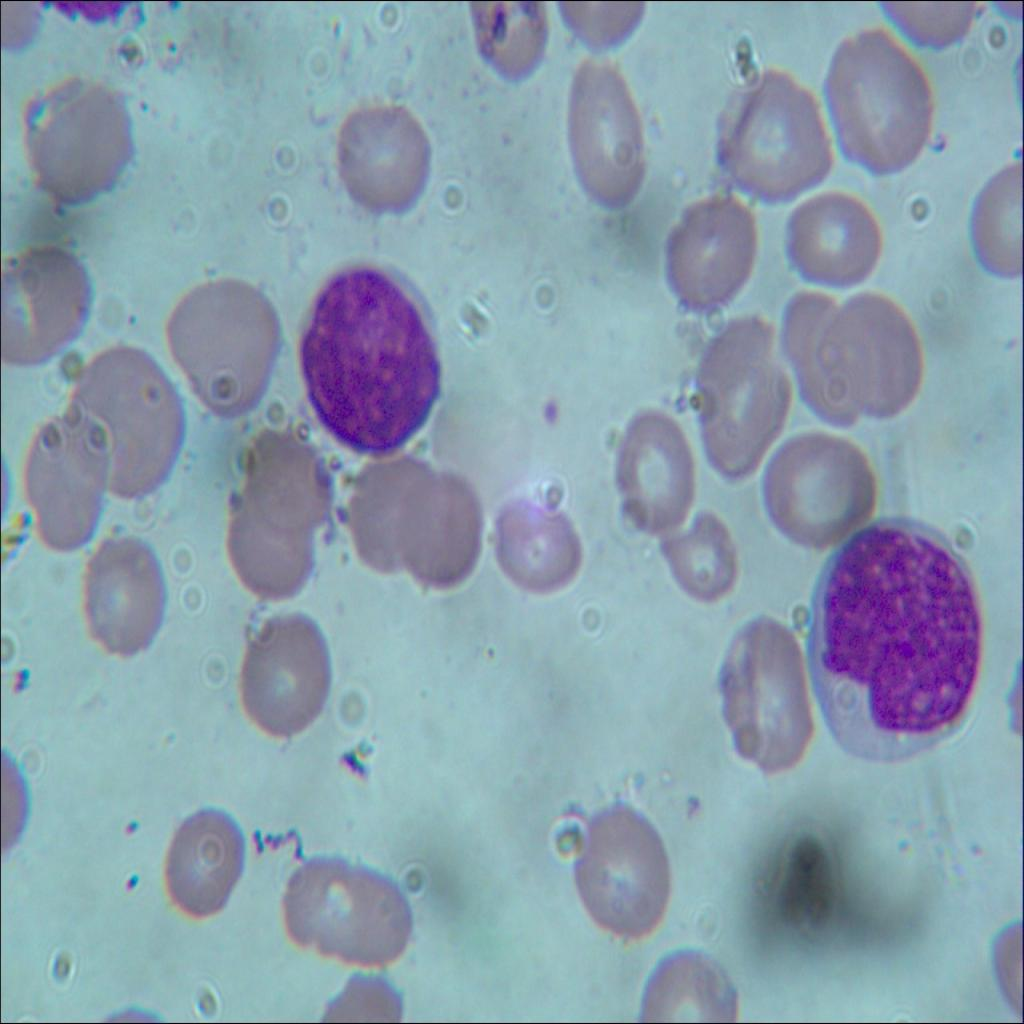Eritrosit: (68, 349, 186, 504), (684, 307, 786, 481), (826, 34, 950, 177), (18, 75, 135, 214), (164, 275, 278, 417), (14, 408, 118, 561), (711, 618, 811, 774), (566, 796, 671, 944), (556, 59, 659, 208), (716, 64, 831, 195), (238, 604, 343, 746), (344, 445, 439, 584), (753, 428, 870, 538), (210, 487, 316, 604), (822, 295, 923, 414), (390, 465, 480, 597), (342, 90, 436, 216), (764, 288, 851, 419), (228, 417, 326, 532), (659, 192, 751, 313), (84, 536, 170, 662), (786, 194, 884, 301), (608, 404, 690, 531), (0, 245, 86, 364), (328, 861, 415, 972), (282, 849, 368, 956), (633, 938, 739, 1023), (162, 805, 242, 914), (656, 494, 738, 597), (498, 497, 581, 594), (974, 166, 1023, 292)
Limfoblast: (294, 257, 446, 458)
Monosit: (804, 515, 978, 766)
Platelet: (538, 390, 573, 429), (111, 861, 146, 899), (681, 791, 709, 832), (8, 666, 42, 694), (111, 818, 142, 846)
